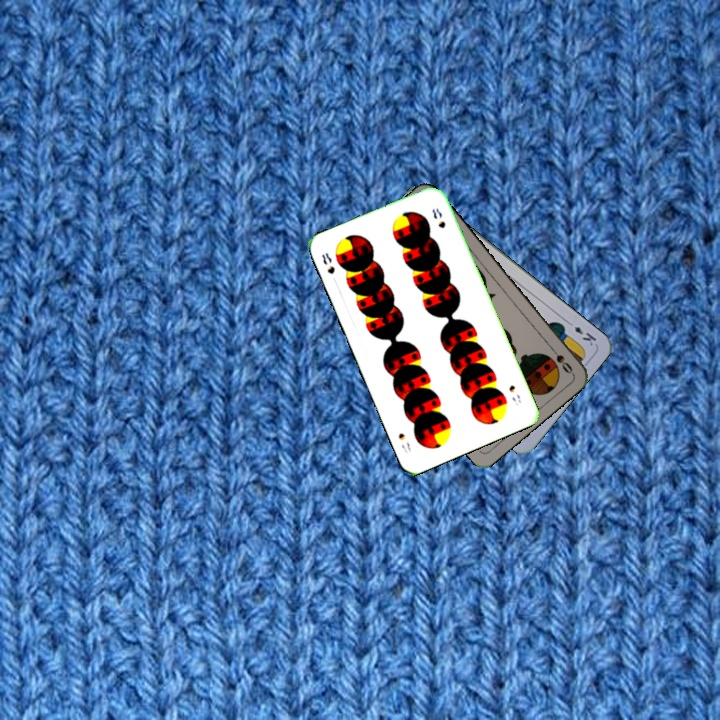EK: (563, 317, 599, 349)
S8: (317, 248, 337, 277), (505, 381, 523, 408)
SO: (545, 342, 575, 376)
